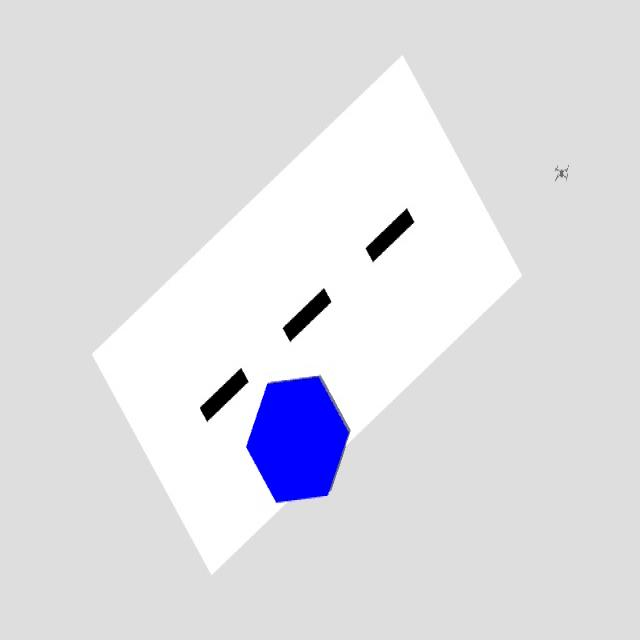blue_hexagon: (246, 375, 349, 503)
